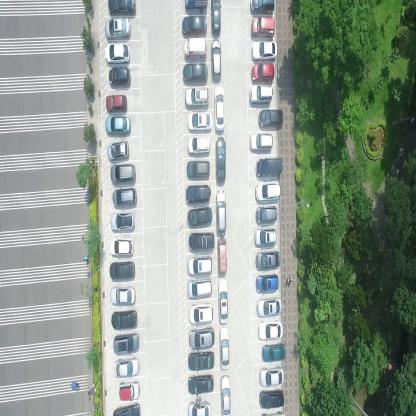car: (184, 204, 212, 226), (112, 332, 140, 354), (186, 372, 214, 394), (111, 184, 136, 208), (188, 301, 212, 326), (186, 277, 212, 300), (188, 325, 214, 348), (188, 348, 214, 371), (256, 156, 283, 178), (259, 364, 284, 387), (110, 161, 136, 183), (108, 258, 134, 280), (110, 284, 136, 306), (186, 254, 212, 276), (213, 84, 225, 131), (218, 324, 230, 370), (184, 86, 209, 108), (186, 109, 211, 131), (256, 296, 281, 318), (182, 15, 208, 36), (113, 357, 139, 378), (258, 388, 284, 409), (110, 309, 137, 329), (106, 138, 129, 161), (183, 38, 207, 60), (215, 134, 226, 182), (248, 130, 273, 151), (105, 17, 130, 38), (109, 235, 134, 256), (256, 180, 281, 201), (104, 42, 130, 62), (105, 115, 131, 135), (215, 186, 226, 233), (186, 134, 209, 156), (217, 277, 228, 323), (252, 39, 276, 60), (250, 61, 274, 82), (258, 106, 282, 127), (250, 83, 274, 104), (182, 62, 207, 82), (110, 210, 135, 230), (257, 320, 282, 340), (188, 231, 214, 250), (220, 374, 232, 415), (251, 16, 275, 36), (262, 342, 286, 362), (185, 184, 211, 202), (186, 158, 209, 178), (108, 66, 131, 86), (257, 273, 280, 293), (104, 93, 128, 112), (256, 250, 280, 269), (119, 379, 140, 400), (210, 0, 222, 35), (108, 0, 136, 15), (256, 205, 278, 224), (254, 228, 277, 246), (211, 39, 221, 80), (113, 402, 141, 415), (188, 400, 210, 415), (217, 238, 226, 274), (250, 0, 275, 12), (184, 0, 209, 11)
